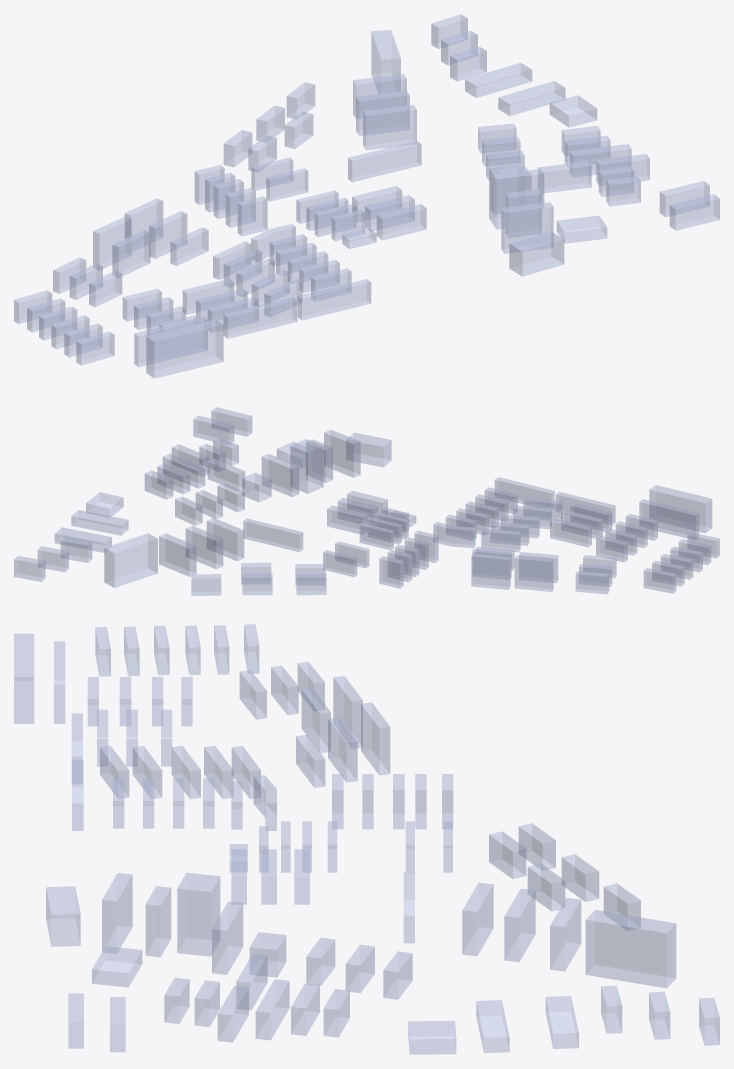
File: boxs.glb
3 views of the same model, one above another, from view 1: azimuth 30°, elevation 25°; view 2: azimuth 150°, elevation 25°; view 3: azimuth 270°, elevation 25° (orthographic). The views are drawn at different scales.
Visible parts, largest first — view 1: Box056, Box055, Box009, Box071, Box072, Box029, Box030, Box074, Box068, Box073, Box011, Box087 (+71 smaller); view 2: Box087, Box056, Box055, Box011, Box009, Box045, Box044, Box074, Box068, Box012, Box072, Box071 (+73 smaller); view 3: Box087, Box011, Box009, Box068, Box056, Box012, Box072, Box071, Box073, Box044, Box045, Box010 (+53 smaller).
Boxes of the visible parts, left/top/right/bottom form: Box056: left=146, top=319, right=223, bottom=378; Box055: left=134, top=316, right=207, bottom=366; Box009: left=501, top=202, right=553, bottom=253; Box071: left=363, top=105, right=416, bottom=150; Box072: left=356, top=90, right=409, bottom=135; Box029: left=297, top=279, right=371, bottom=320; Box030: left=223, top=297, right=297, bottom=338; Box074: left=348, top=141, right=421, bottom=182; Box068: left=509, top=231, right=564, bottom=276; Box073: left=353, top=74, right=406, bottom=118; Box011: left=489, top=164, right=525, bottom=229; Box087: left=371, top=30, right=400, bottom=93; Box087: left=104, top=533, right=157, bottom=587; Box056: left=649, top=485, right=712, bottom=533; Box055: left=639, top=499, right=699, bottom=539; Box011: left=290, top=439, right=323, bottom=493; Box009: left=324, top=429, right=360, bottom=477; Box045: left=514, top=555, right=553, bottom=591; Box044: left=471, top=553, right=510, bottom=589; Box074: left=243, top=518, right=303, bottom=551; Box068: left=346, top=432, right=391, bottom=467; Box012: left=261, top=453, right=299, bottom=497; Box072: left=185, top=526, right=223, bottom=569; Box071: left=206, top=518, right=244, bottom=561; Box087: left=585, top=910, right=676, bottom=988; Box011: left=177, top=872, right=220, bottom=956; Box009: left=102, top=873, right=132, bottom=953; Box068: left=46, top=886, right=80, bottom=946; Box056: left=14, top=633, right=34, bottom=723; Box012: left=212, top=901, right=243, bottom=974; Box072: left=504, top=888, right=535, bottom=961; Box071: left=462, top=882, right=493, bottom=955; Box073: left=550, top=898, right=581, bottom=971; Box044: left=361, top=702, right=390, bottom=775; Box045: left=333, top=676, right=362, bottom=748; Box010: left=145, top=886, right=171, bottom=957.
Size of the model in its own units: 1099 by 82.25 by 814.
